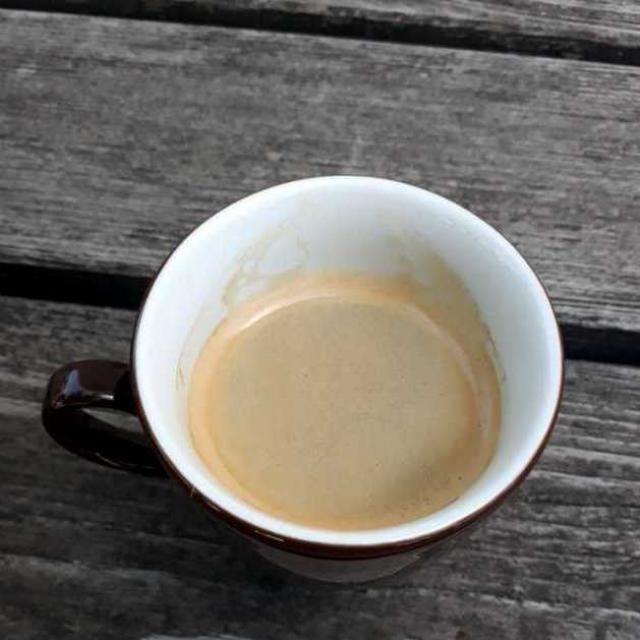coffee: (193, 273, 498, 525)
